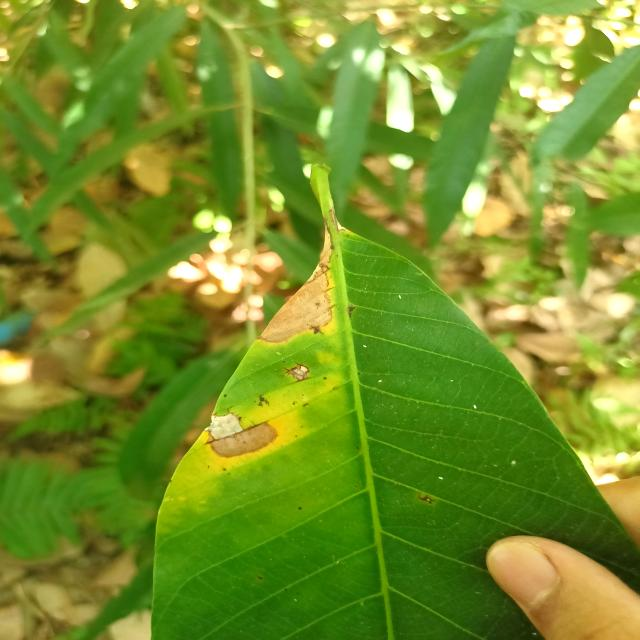Colletotrichum: (323, 377, 327, 380)
Corynespora: (416, 493, 436, 504), (308, 324, 323, 335), (258, 395, 270, 407)
Leaf-Blight: (255, 219, 332, 343), (203, 411, 279, 458), (288, 366, 308, 380)
